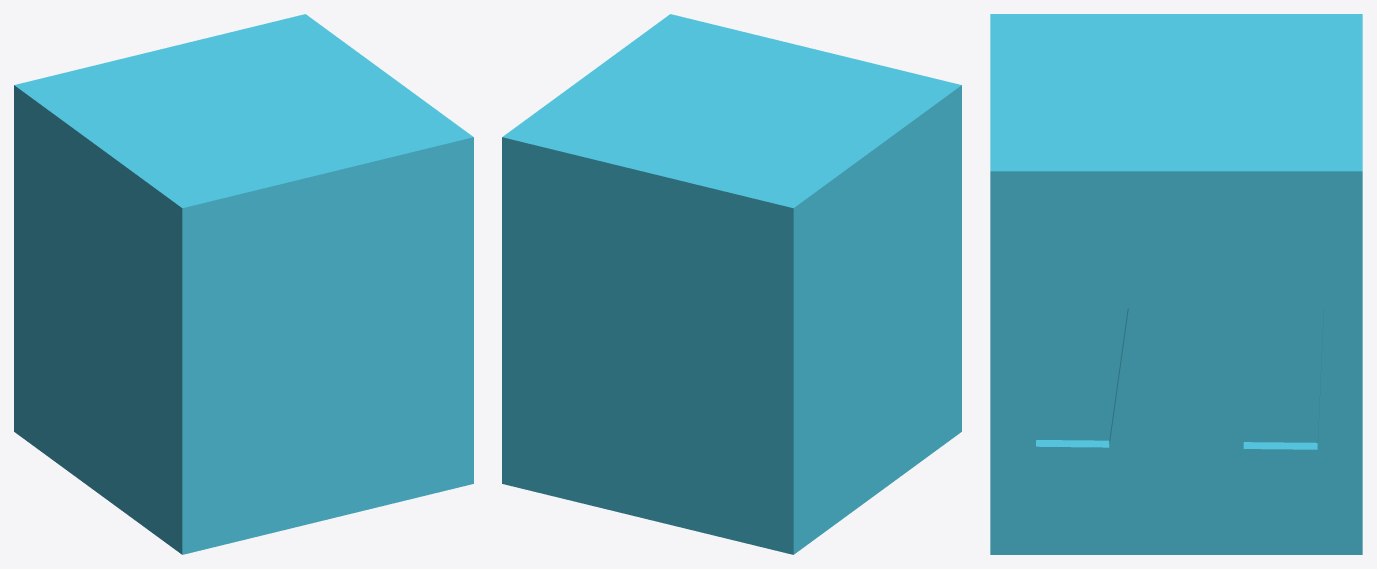
Rendered from Building3.fbx.
The picture shows the model from 3 angles, left to right: view 1: azimuth 30°, elevation 25°; view 2: azimuth 150°, elevation 25°; view 3: azimuth 270°, elevation 25°; orthographic projection. The views are drawn at different scales.
Visible parts, largest first — view 1: Building3; view 2: Building3; view 3: Building3.
Boxes of the visible parts, x1=… form: Building3: x1=14, y1=14, x2=473, y2=554; Building3: x1=502, y1=14, x2=961, y2=554; Building3: x1=990, y1=14, x2=1362, y2=554.
Size of the model in its own units: 399 by 454 by 399.
